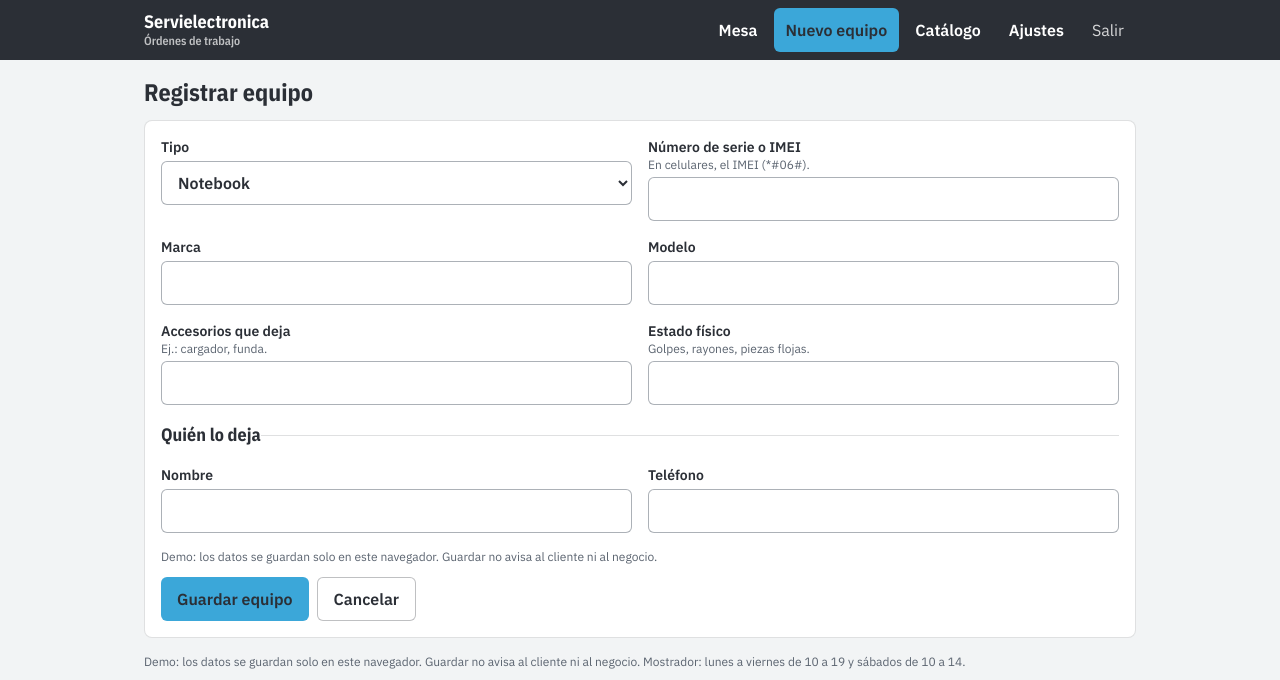
criterio 1: serie repetida › no guarda y avisa cuál es la ficha existente
Type "pf3k9qzl" into the field labelled "Número de serie o IMEI En celulares, el IMEI (*#06#).". click: (884, 199)
box: x1=648 y1=177 x2=1119 y2=221
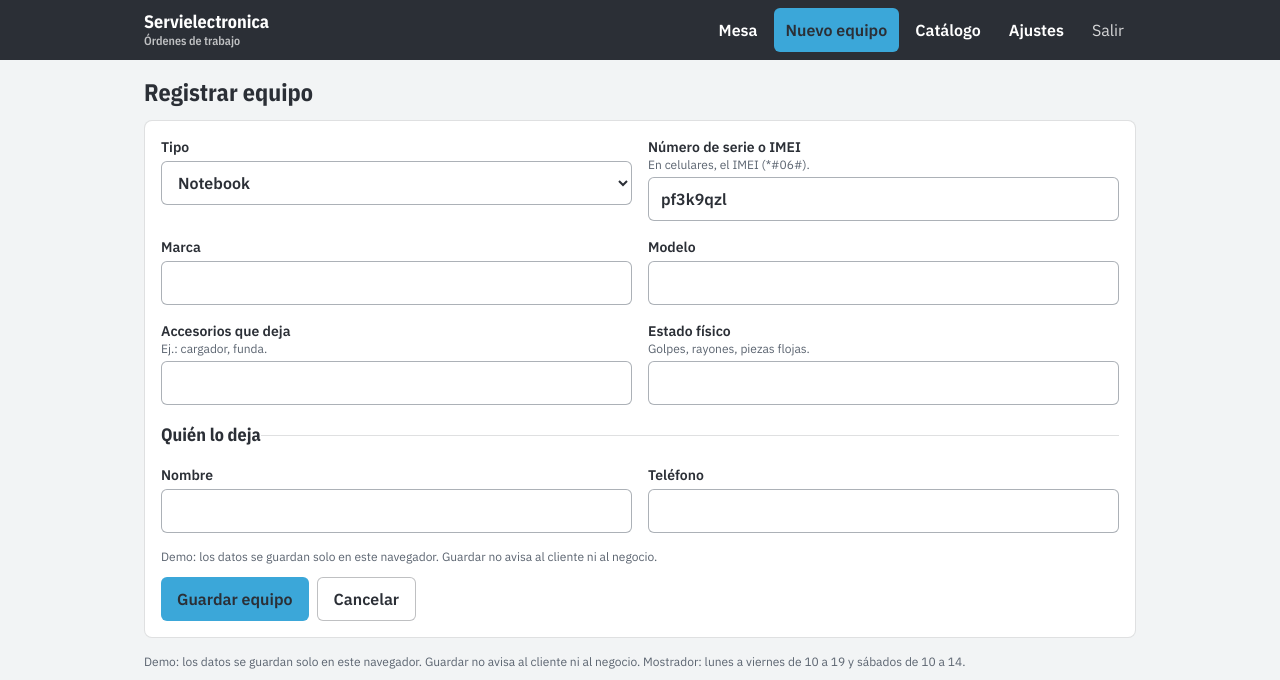
Type "Lenovo" into the field labelled "Marca". click: (396, 283)
box: x1=161 y1=261 x2=632 y2=305
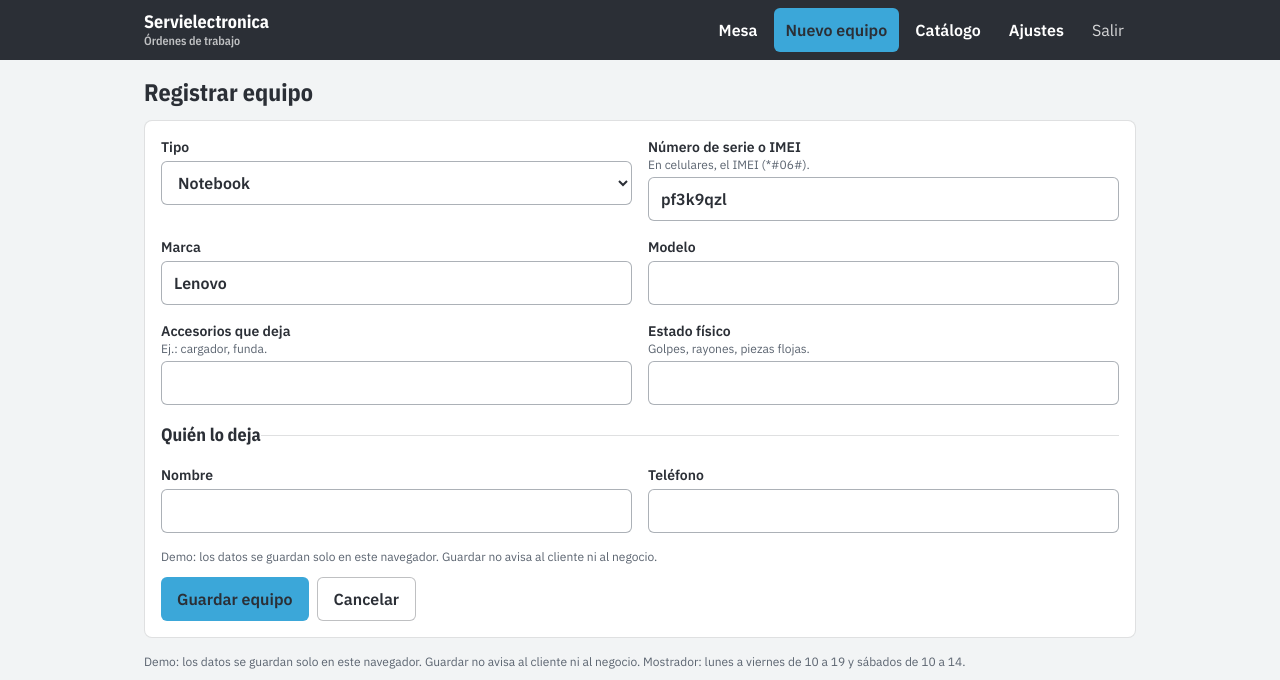
Type "IdeaPad" into the field labelled "Modelo". click: (884, 283)
box: x1=648 y1=261 x2=1119 y2=305
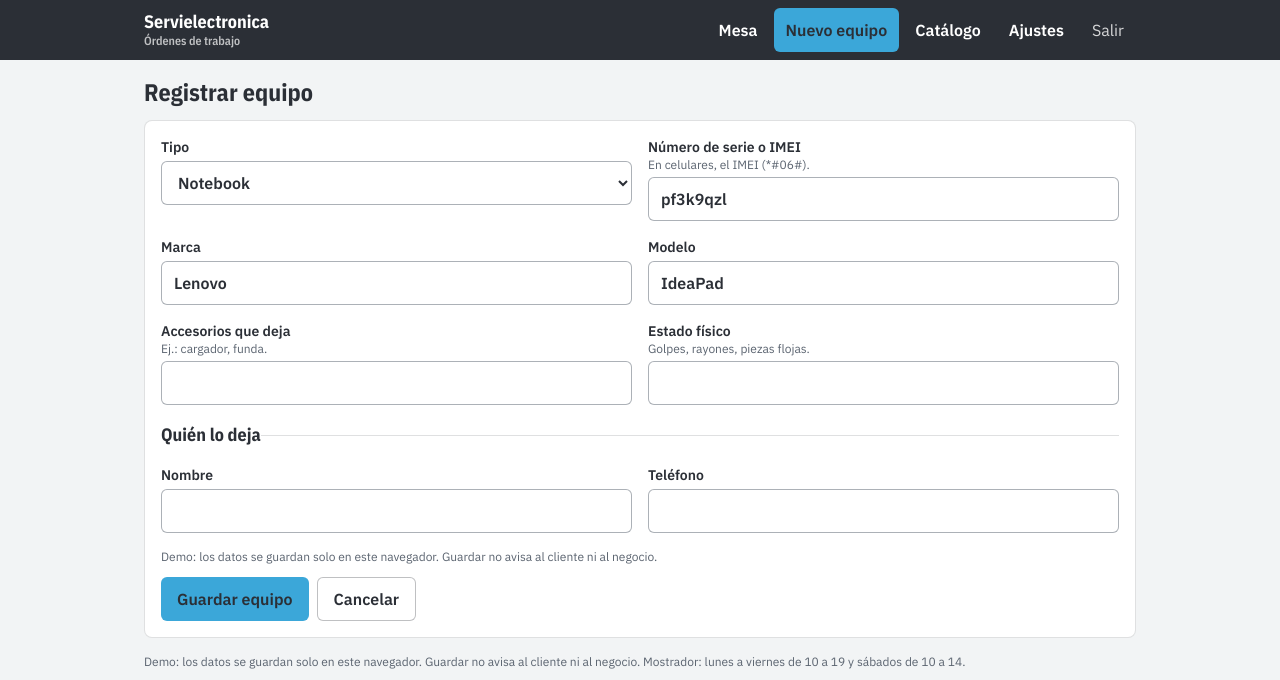
Type "Cliente de prueba" into the field labelled "Nombre". click: (396, 511)
box: x1=161 y1=489 x2=632 y2=533
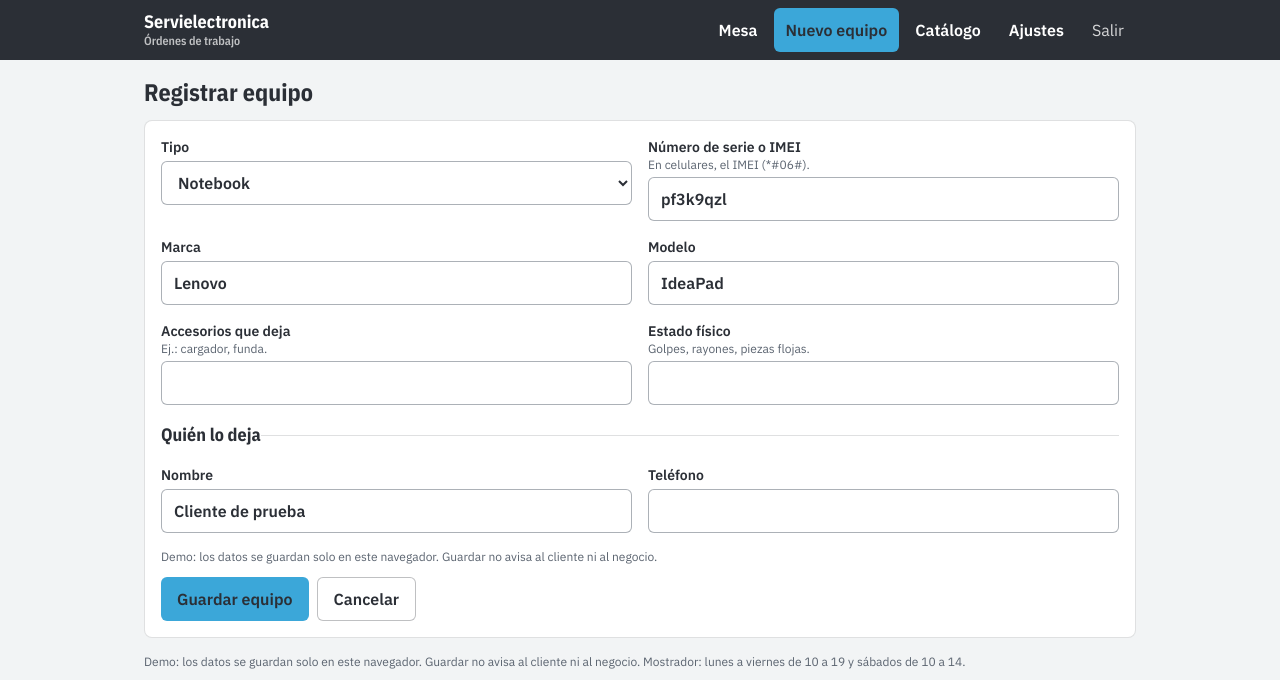
Click the button "Guardar equipo". click: (235, 599)
box: x1=161 y1=577 x2=308 y2=621
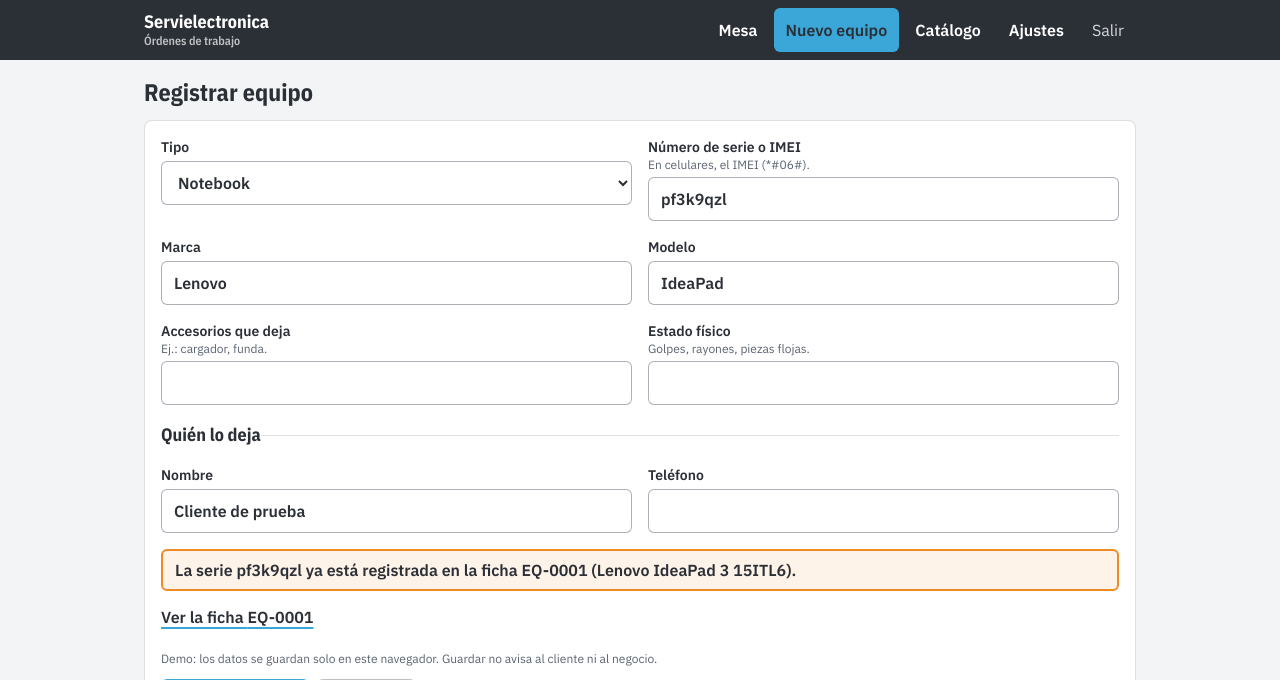
Expected: the message shows "ficha EQ-0001", x1=175 y1=560 x2=796 y2=580
Expected: the link "Ver la ficha EQ-0001" is shown, x1=161 y1=607 x2=314 y2=627
